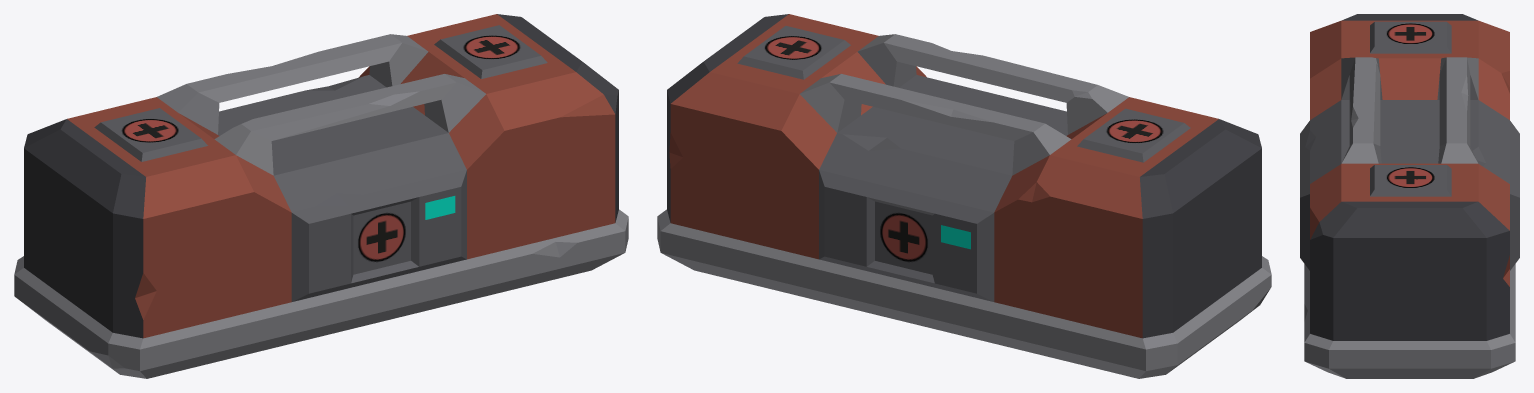
Rendered from SM_Prop_Crate_health_02.glb.
The picture shows the model from 3 angles, left to right: view 1: azimuth 30°, elevation 25°; view 2: azimuth 150°, elevation 25°; view 3: azimuth 270°, elevation 25°; orthographic projection. The views are drawn at different scales.
Parts seen in each view (by area): view 1: SM_Prop_Crate_health_02; view 2: SM_Prop_Crate_health_02; view 3: SM_Prop_Crate_health_02.
Boxes of the visible parts, box(x1,y1,x2,y2) form: SM_Prop_Crate_health_02: box(14, 14, 628, 378); SM_Prop_Crate_health_02: box(657, 14, 1271, 378); SM_Prop_Crate_health_02: box(1300, 14, 1519, 378).
Bounding box in the file's own units: 1.33 × 0.5038 × 0.5629.
Materials: 1 (1 with a texture image).
